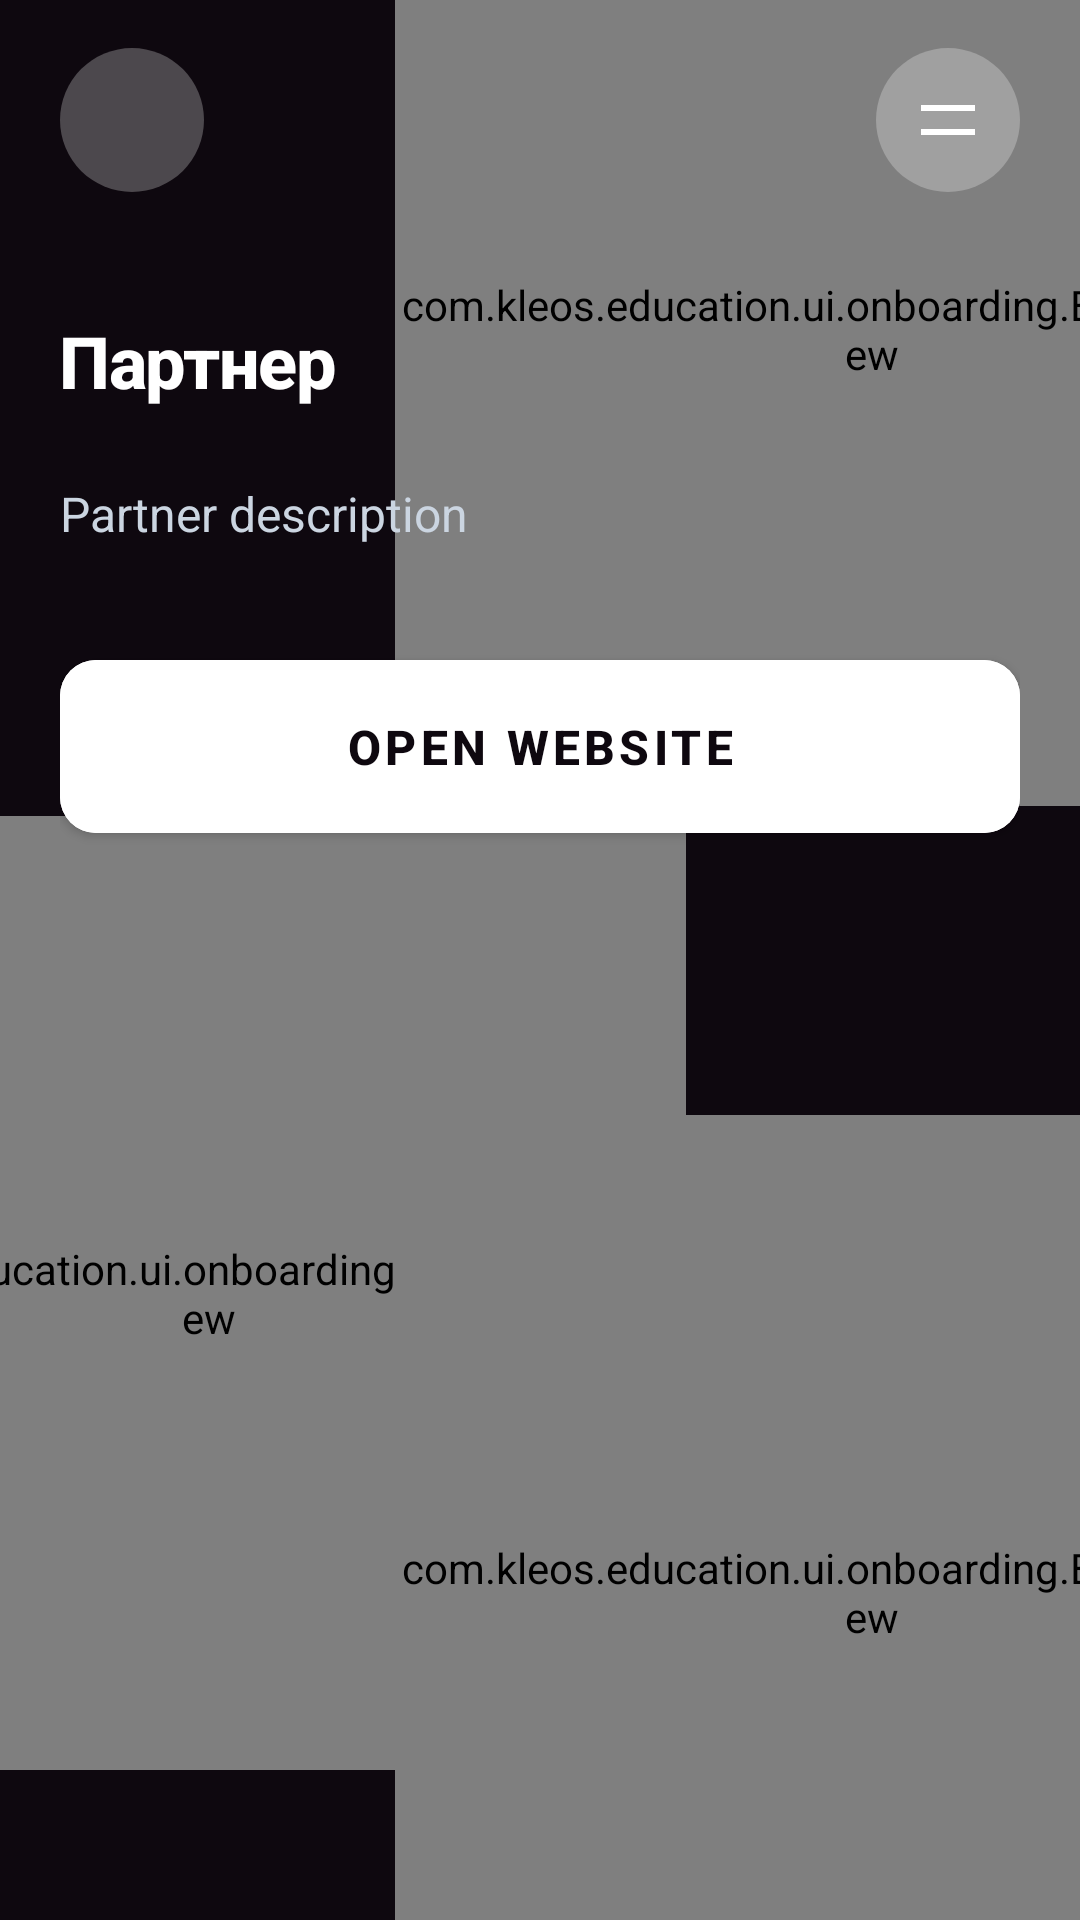

Icon click points for this 1080 x 1920 phone screenshot, format (x=x, y=y):
Menu: (x=948, y=120)
